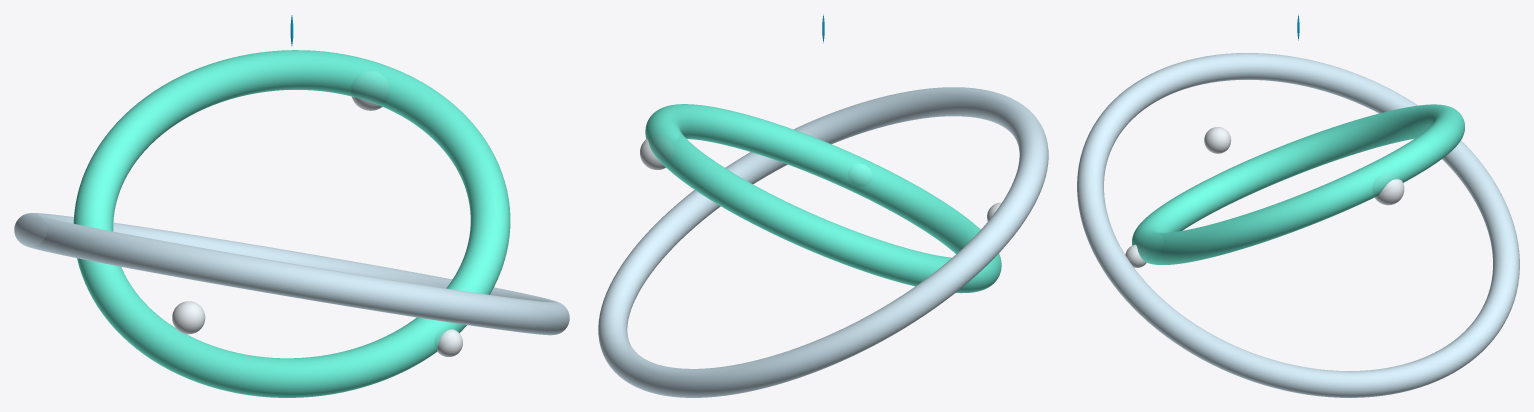
The picture shows the model from 3 angles, left to right: view 1: azimuth 30°, elevation 25°; view 2: azimuth 150°, elevation 25°; view 3: azimuth 270°, elevation 25°; orthographic projection. The views are drawn at different scales.
Size of the model in its own units: 0.0481 by 0.0378 by 0.0493.
